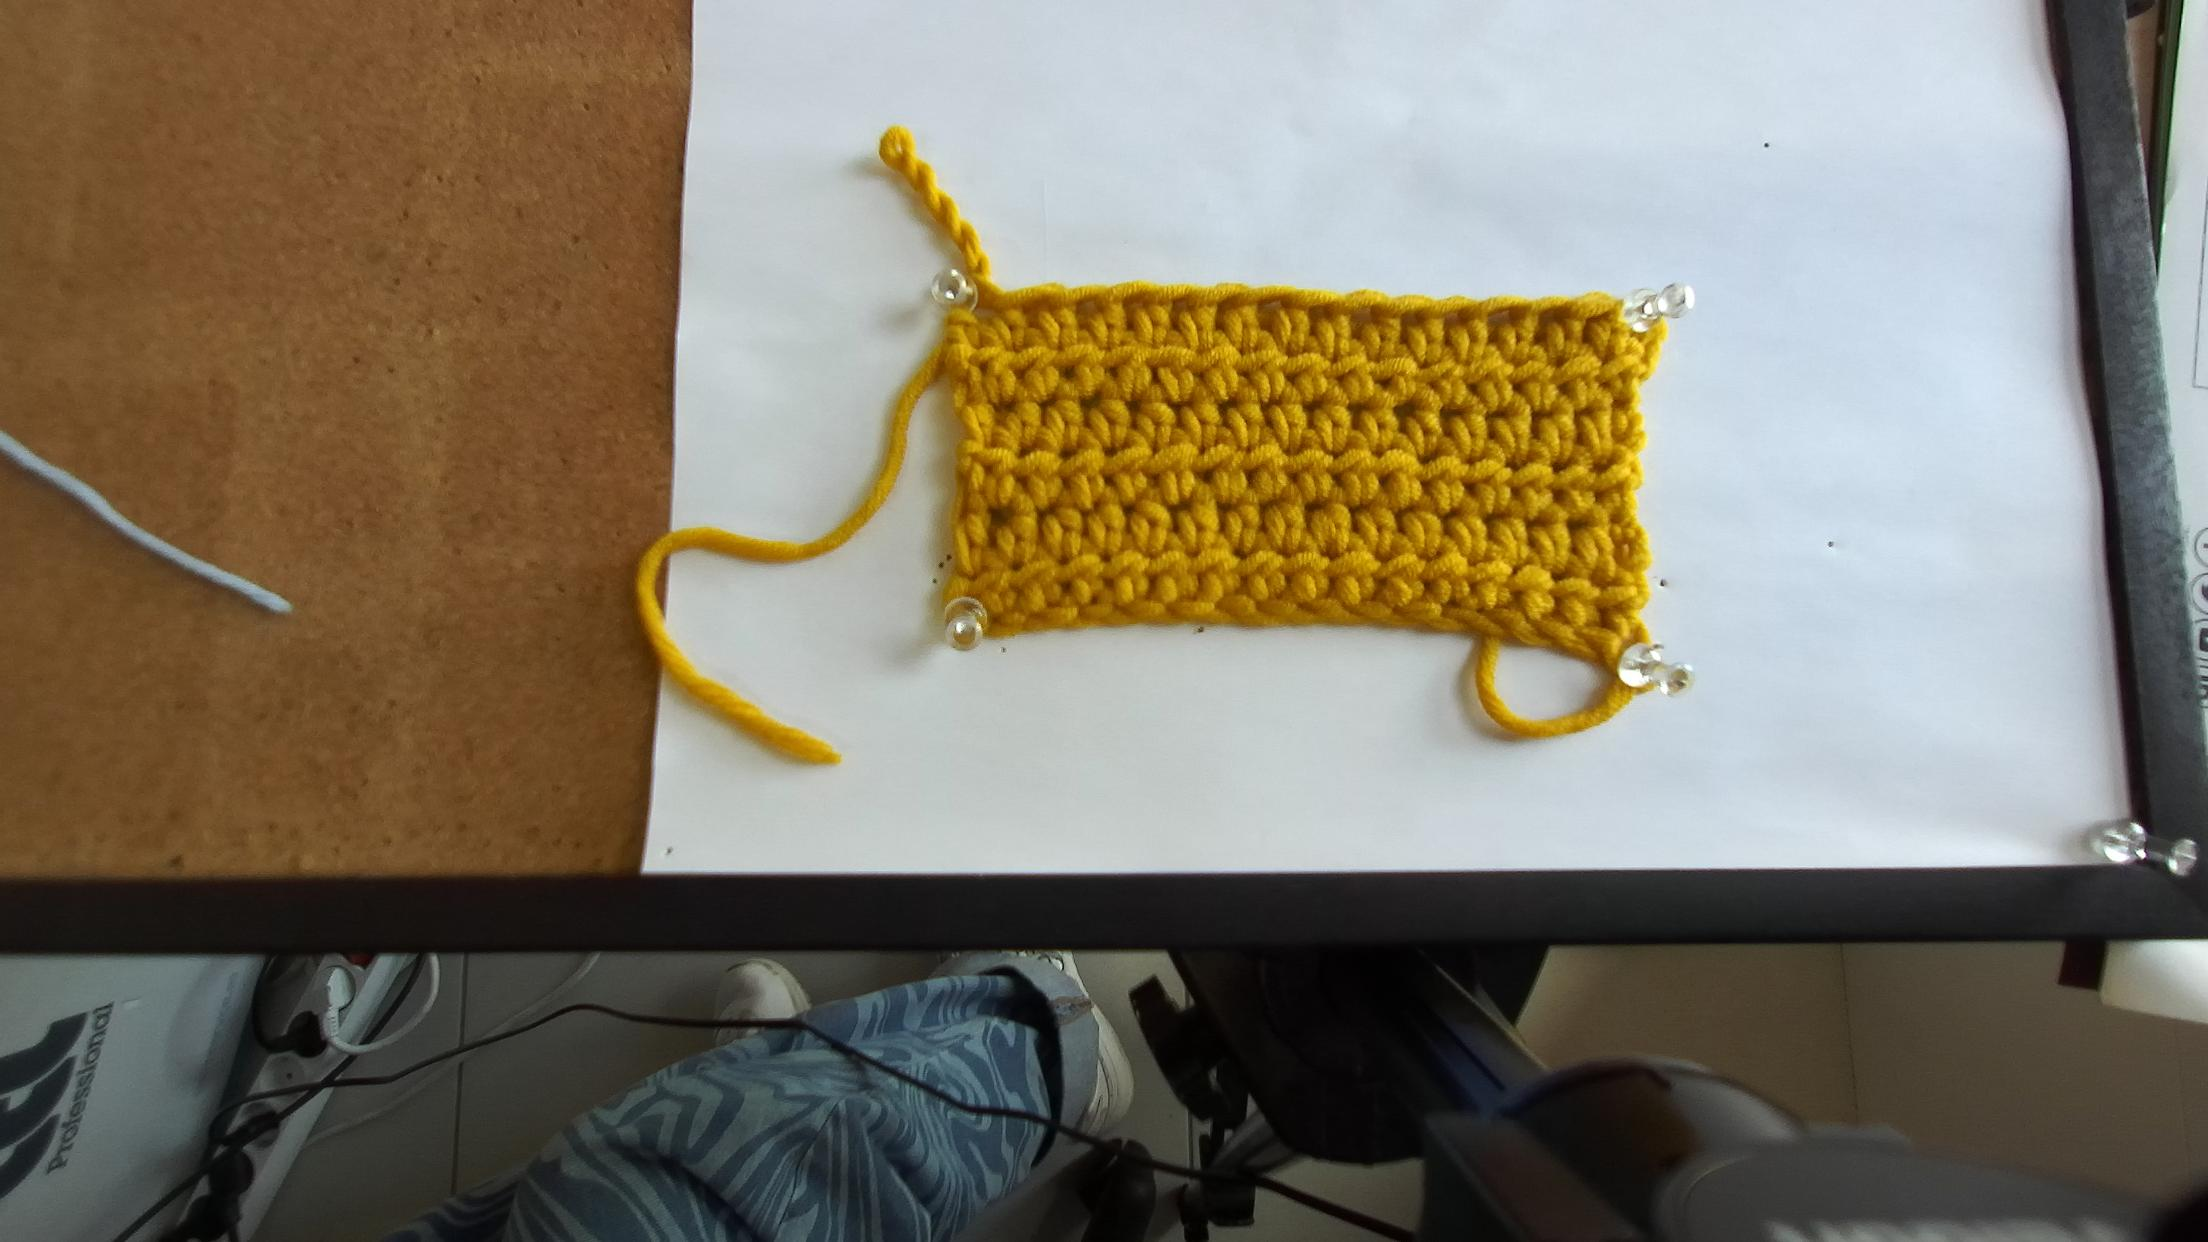hole: (970, 305, 1002, 321), (1075, 297, 1098, 319), (1484, 309, 1510, 326), (1259, 299, 1283, 315), (1123, 298, 1144, 316), (1024, 302, 1053, 314), (1216, 298, 1237, 314), (1538, 307, 1555, 325), (1350, 310, 1373, 322), (1583, 313, 1605, 325), (1309, 305, 1326, 320), (1172, 298, 1188, 313), (1404, 313, 1421, 326), (1445, 311, 1460, 325)
swatch: (933, 281, 1695, 674)
